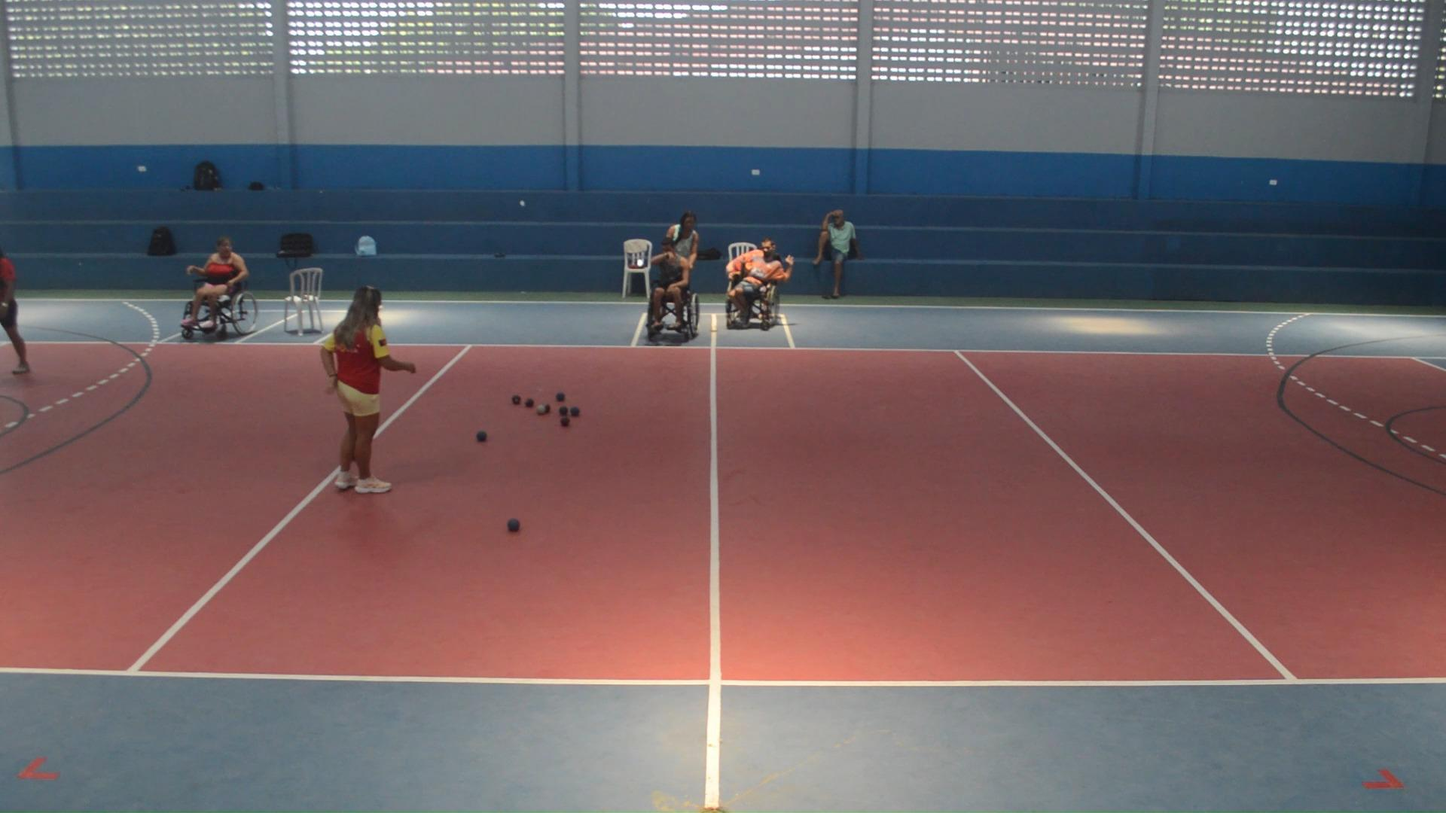blue_ball: (506, 518, 521, 533), (475, 429, 488, 443), (556, 391, 565, 401), (571, 406, 580, 416), (559, 406, 567, 415)
red_ball: (560, 416, 570, 427), (511, 394, 521, 405), (524, 398, 534, 408)
white_ball: (536, 404, 545, 415)
